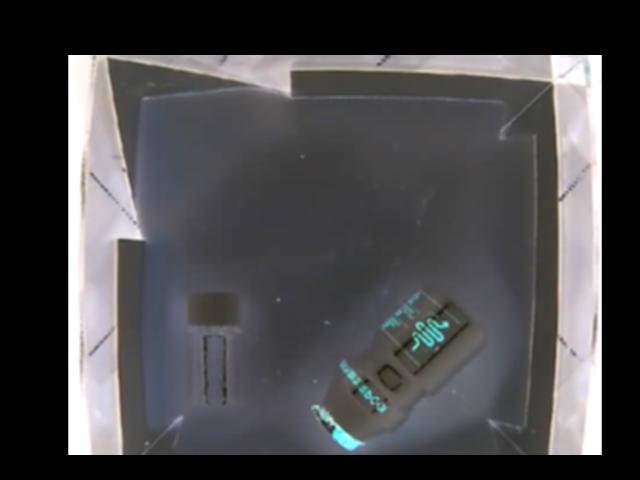Bottle: (309, 280, 483, 450), (186, 291, 244, 415)
